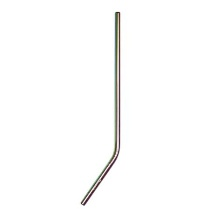drinking_straw: (74, 7, 128, 210)
